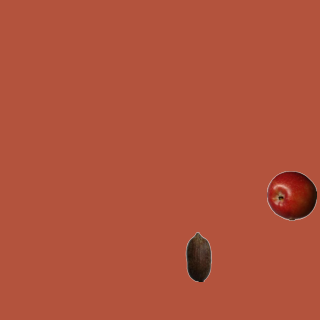Apple Braeburn: (266, 170, 316, 220)
Nut Pecan: (173, 231, 223, 281)
